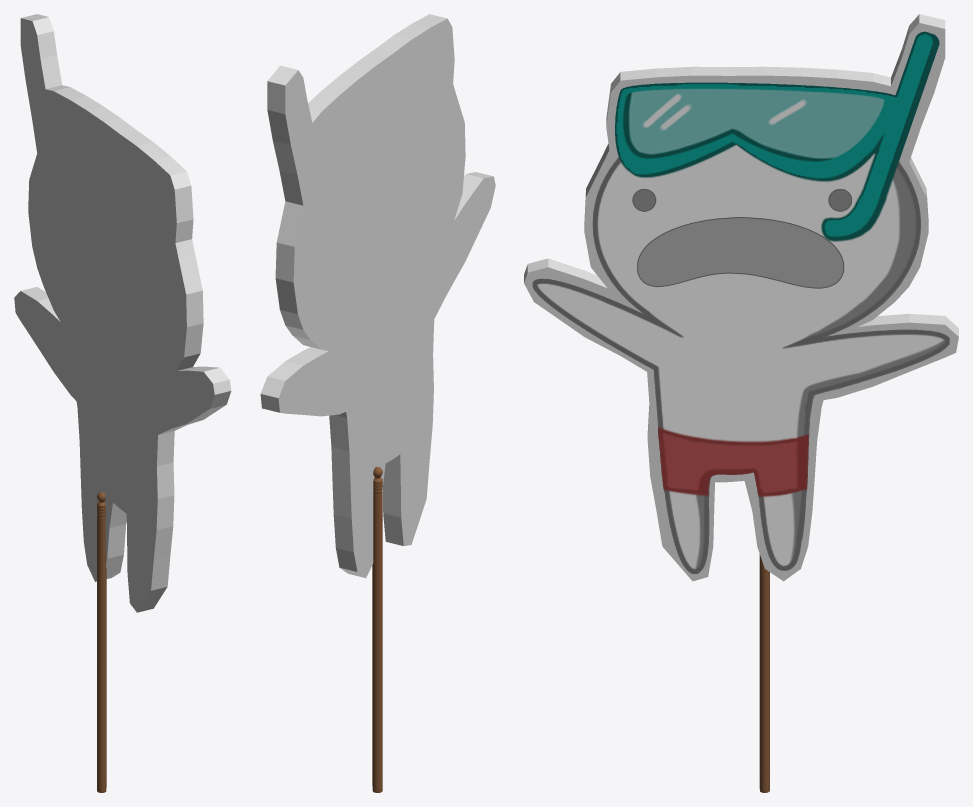
The model's file is Personaje_scn4.fbx.
The picture shows the model from 3 angles, left to right: view 1: azimuth 30°, elevation 25°; view 2: azimuth 150°, elevation 25°; view 3: azimuth 270°, elevation 25°; orthographic projection. The views are drawn at different scales.
Visible parts, largest first — view 1: pCube14; view 2: pCube14; view 3: pCube14.
Boxes of the visible parts, x1,y1,x2,y2 form: pCube14: (14, 14, 231, 792); pCube14: (260, 14, 495, 792); pCube14: (524, 14, 958, 792).
Size of the model in its own units: 0.8666 by 25.73 by 13.03.
